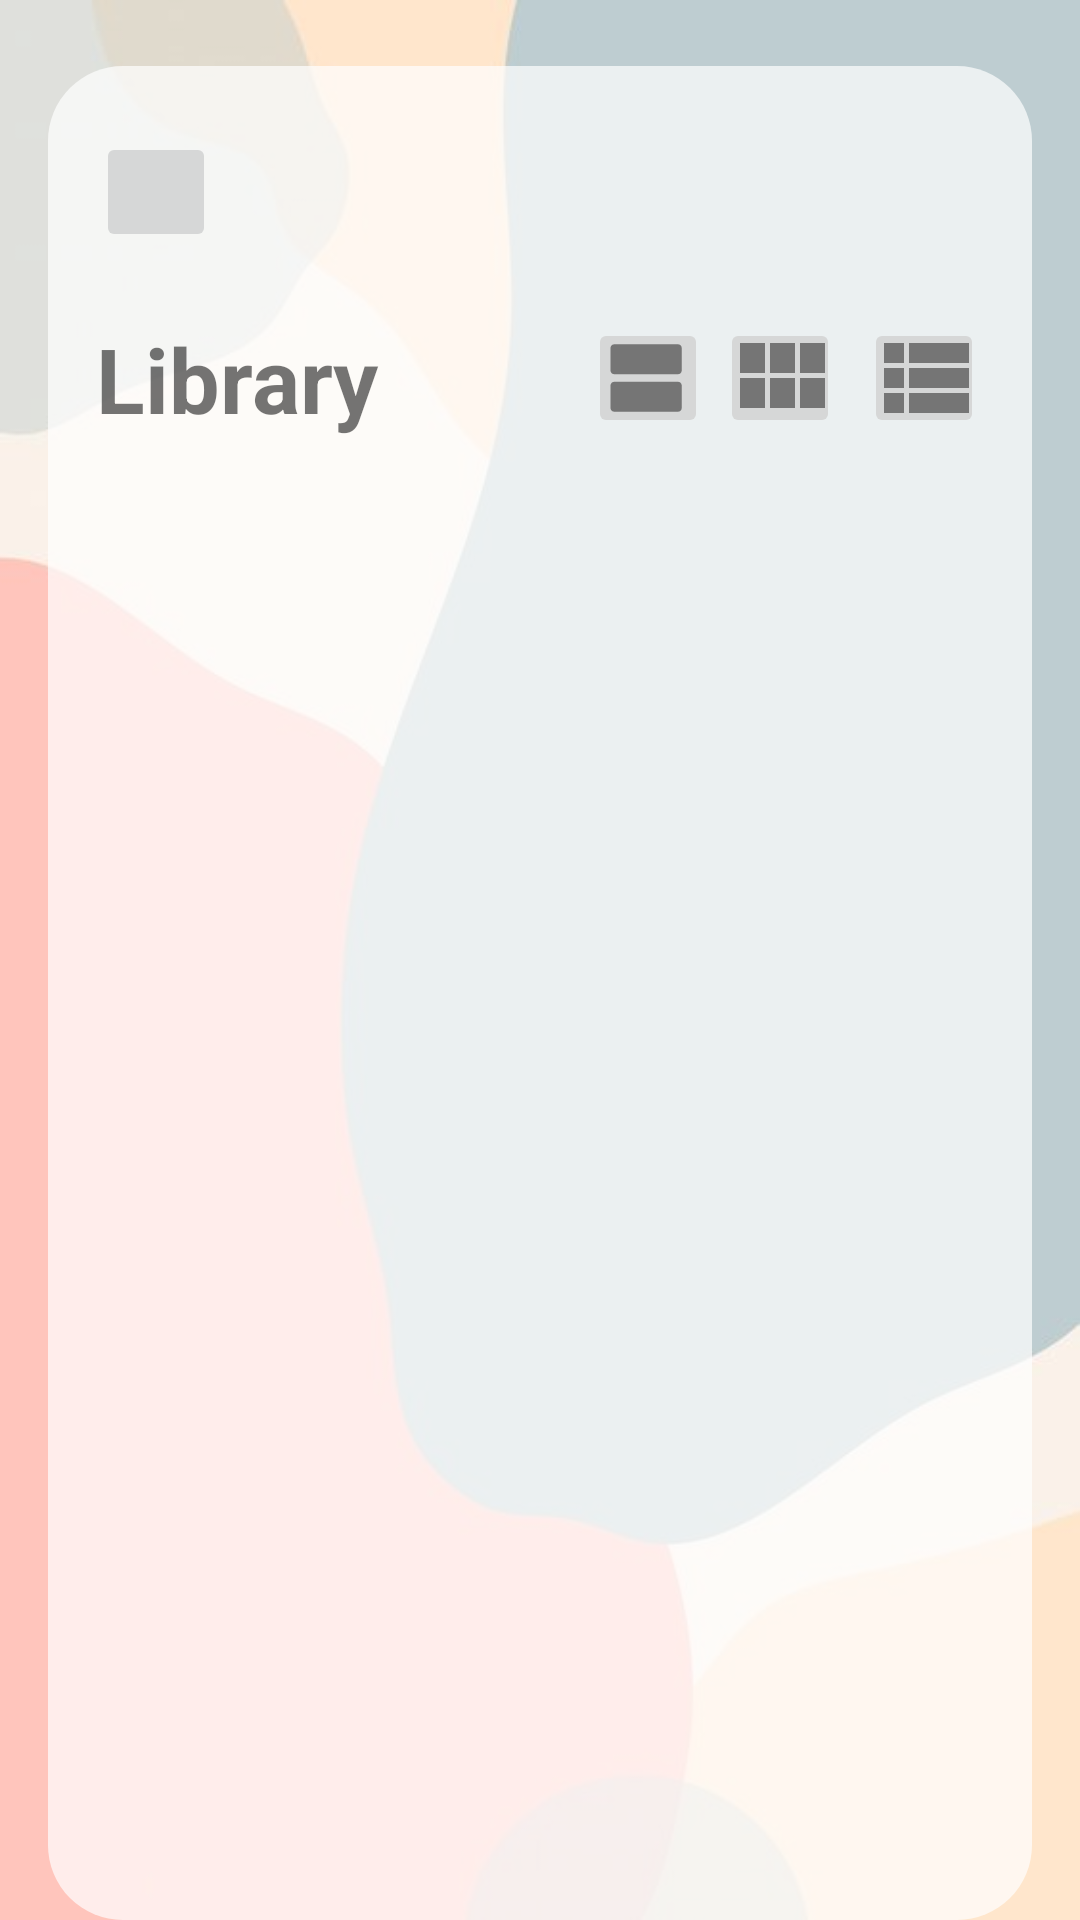

Screen size 1080x1920. Icon name, then its center in pixels as (x=x, y=y):
cardview: (x=648, y=378)
gridview: (x=780, y=378)
listview: (x=924, y=378)
